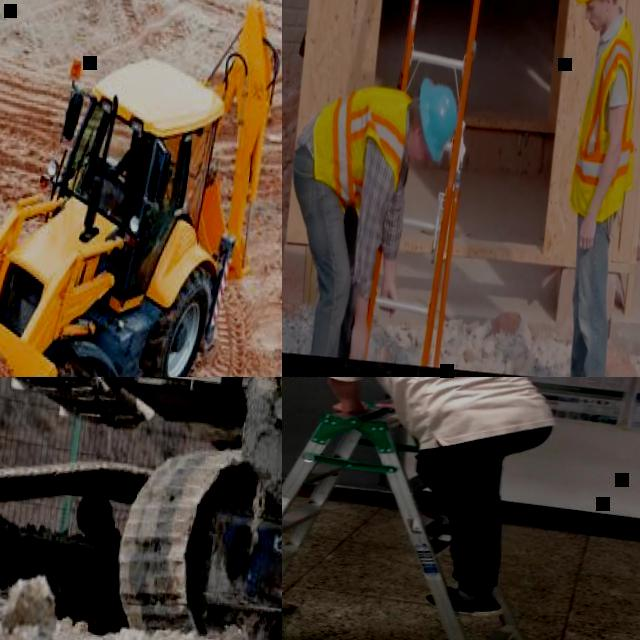helmet: (413, 76, 462, 162)
machinery: (0, 0, 282, 377), (0, 377, 282, 640)
no_mask: (590, 8, 606, 32), (408, 140, 422, 162)
no_vest: (346, 377, 565, 451)
person: (282, 377, 570, 618), (282, 64, 463, 366), (536, 0, 640, 377), (218, 377, 282, 640), (108, 134, 158, 200)
vest: (306, 77, 414, 221), (568, 12, 640, 221)
